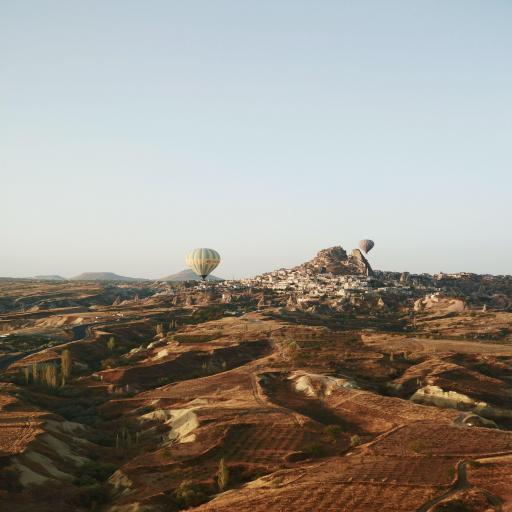hot air ballon: (179, 246, 221, 285), (358, 236, 378, 259)
